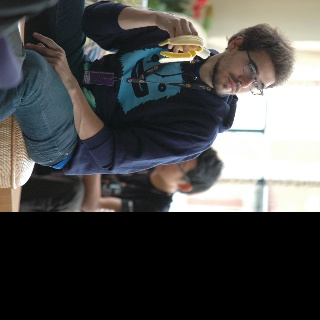without_mask: (211, 46, 276, 97)
